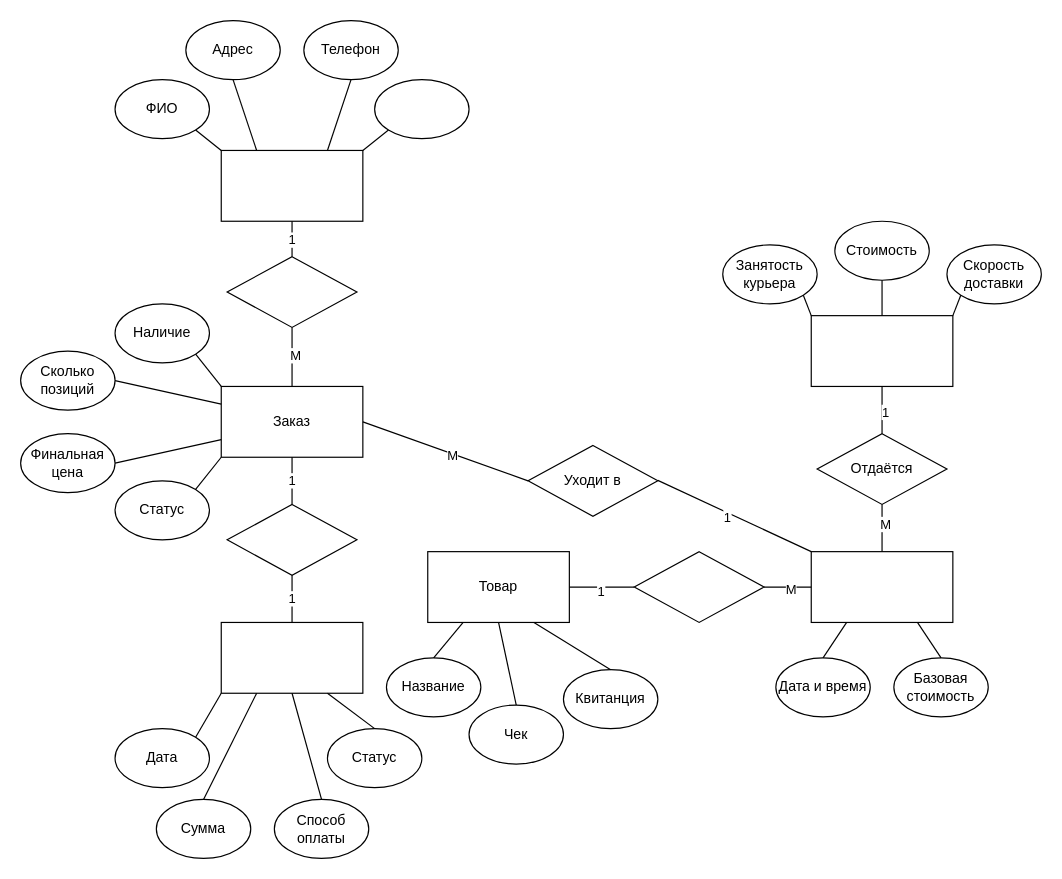
Some shapes in this 1062 by 879 pixel diagram are drawn without their labels. Each missing label, with the box of its shape:
Доставка: (810, 550, 953, 622)
Курьеру: (810, 314, 953, 386)
Оплата: (220, 621, 363, 693)
Оплачивает: (226, 255, 357, 327)
Передаётся: (633, 550, 764, 622)
Подтверждается: (226, 503, 357, 575)
Пользователь: (220, 149, 363, 221)
Почта: (373, 78, 469, 139)
